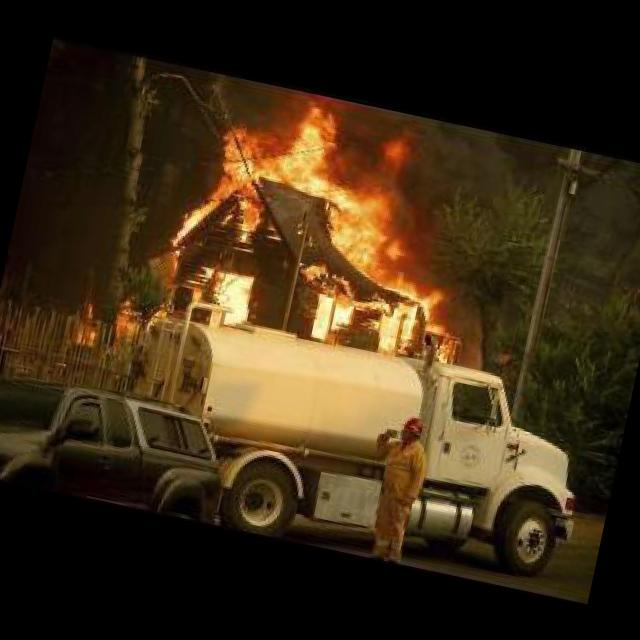Fire: (149, 75, 507, 373)
